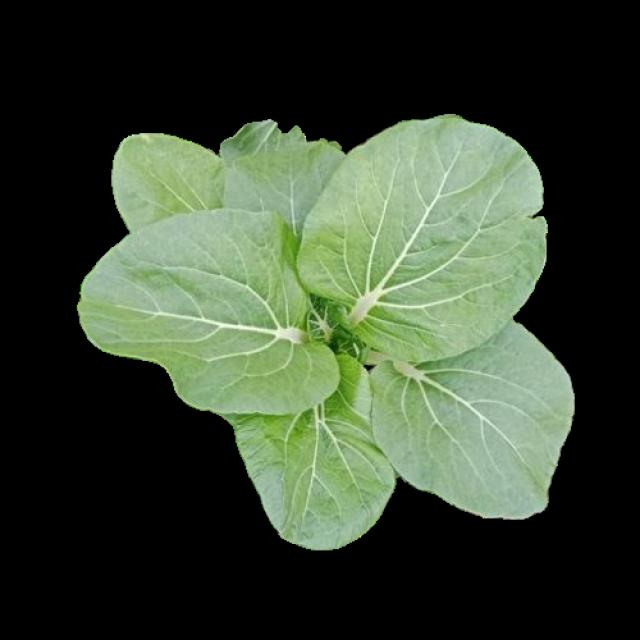healthy: (77, 112, 571, 546)
mature: (80, 114, 574, 548)
